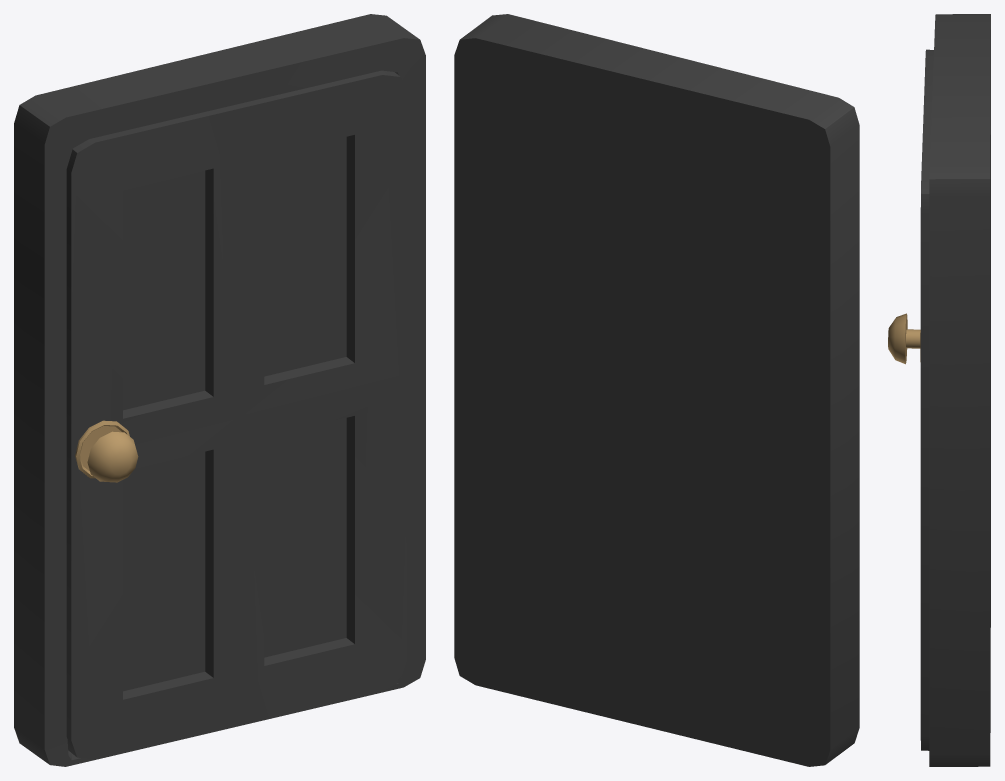
The model's file is SM_door_03.fbx.
3 renders of one model, left to right at view 1: azimuth 30°, elevation 25°; view 2: azimuth 150°, elevation 25°; view 3: azimuth 270°, elevation 25°, orthographic. The views are drawn at different scales.
Parts seen in each view (by area): view 1: Object012; view 2: Object012; view 3: Object012.
Part boxes in pixels (<box>): Object012: <box>14,14,425,766</box>; Object012: <box>454,14,859,766</box>; Object012: <box>888,14,990,766</box>.
Bounding box in the file's own units: 47.63 × 78.12 × 12.17.
